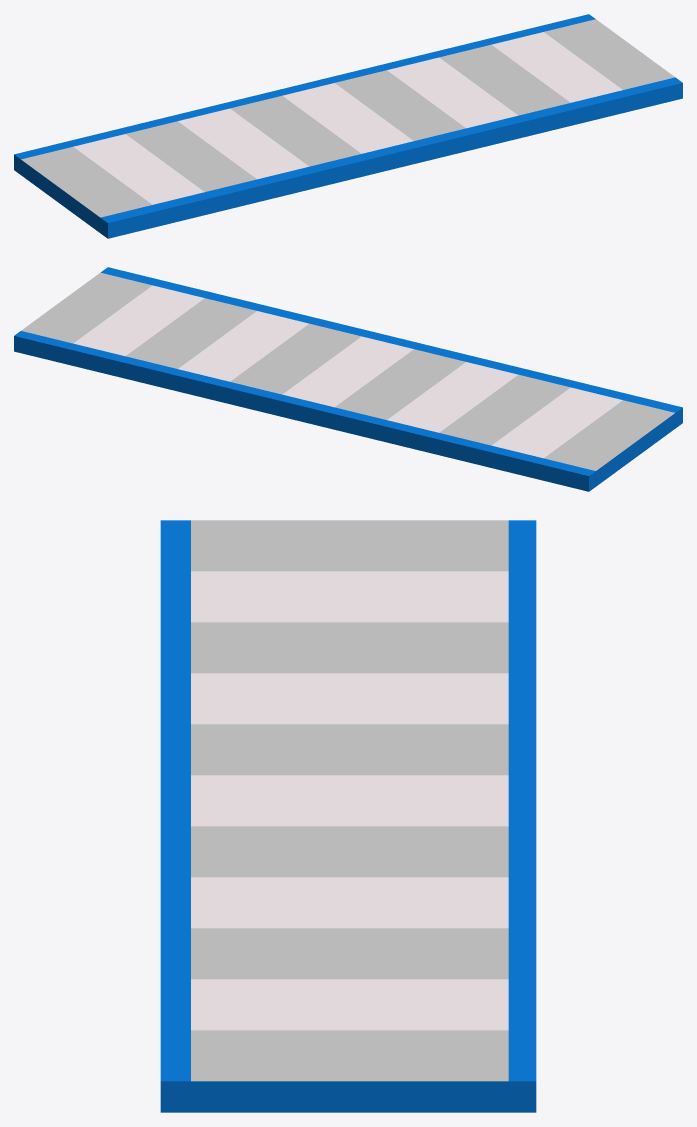
File: Floor.fbx
The picture shows the model from 3 angles, top to bottom: view 1: azimuth 30°, elevation 25°; view 2: azimuth 150°, elevation 25°; view 3: azimuth 270°, elevation 25°; orthographic projection. The views are drawn at different scales.
Visible parts, largest first — view 1: Cube; view 2: Cube; view 3: Cube.
Boxes of the visible parts, x1,y1,x2,y2 form: Cube: (14, 14, 682, 238); Cube: (14, 267, 682, 491); Cube: (160, 520, 536, 1112).
Bounding box in the file's own units: 1458 × 38.03 × 413.
